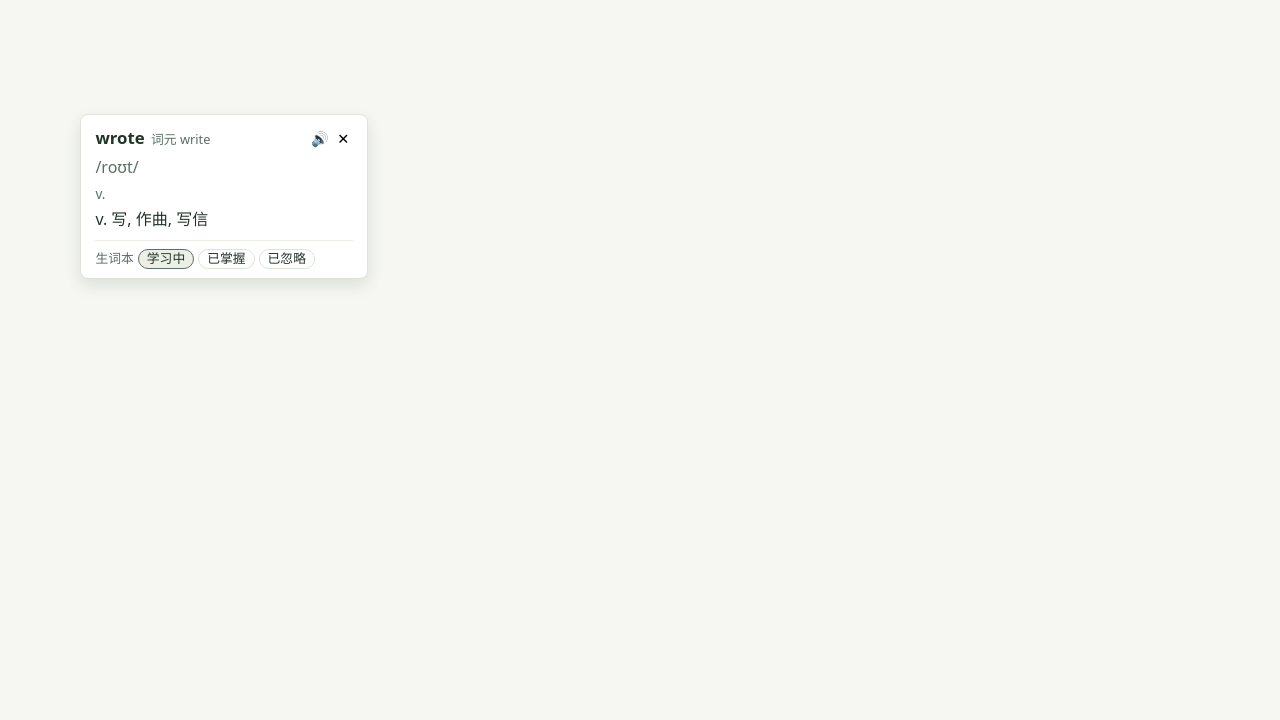
Test: shows a notice when the state save fails and clears it when a retry lands
Check: the text "/roʊt/" is shown, box [95,156,139,178]
Click the button "已掌握".
click(226, 259)  # box [198,249,255,269]
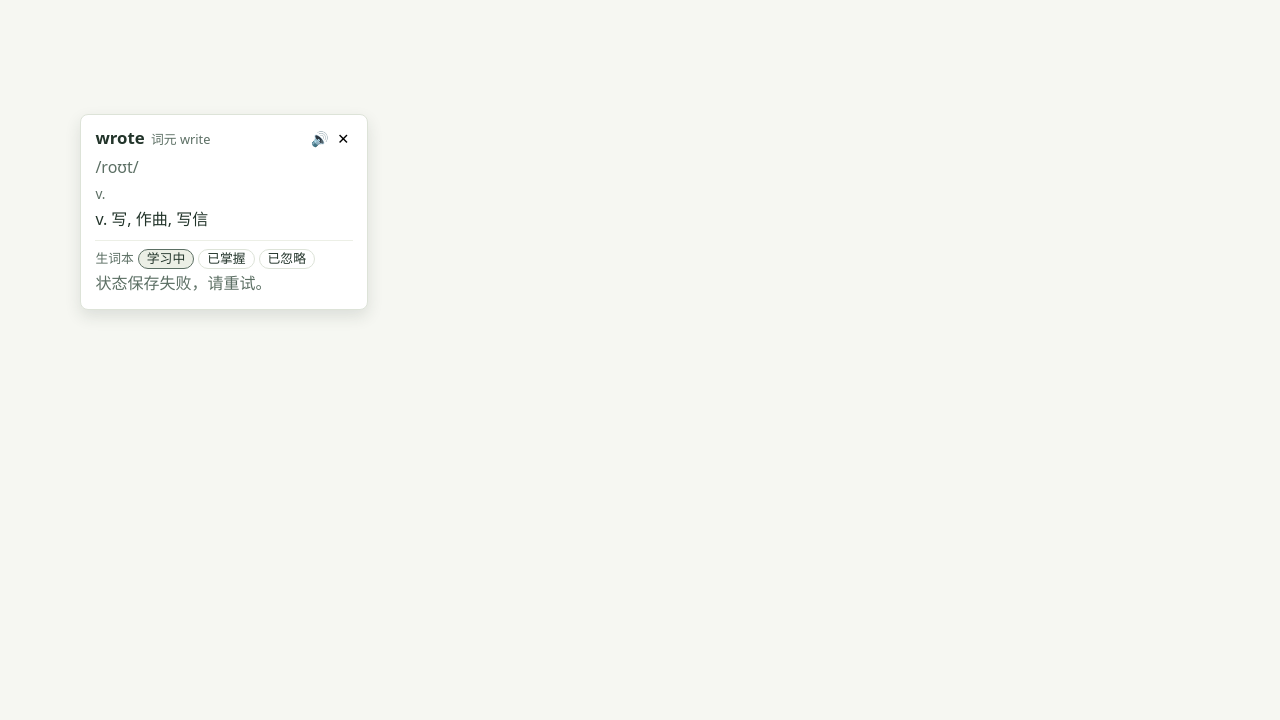
Check: the text "状态保存失败，请重试。" is shown, box [95,272,271,294]
Click the button "已掌握".
click(226, 259)  # box [198,249,255,269]
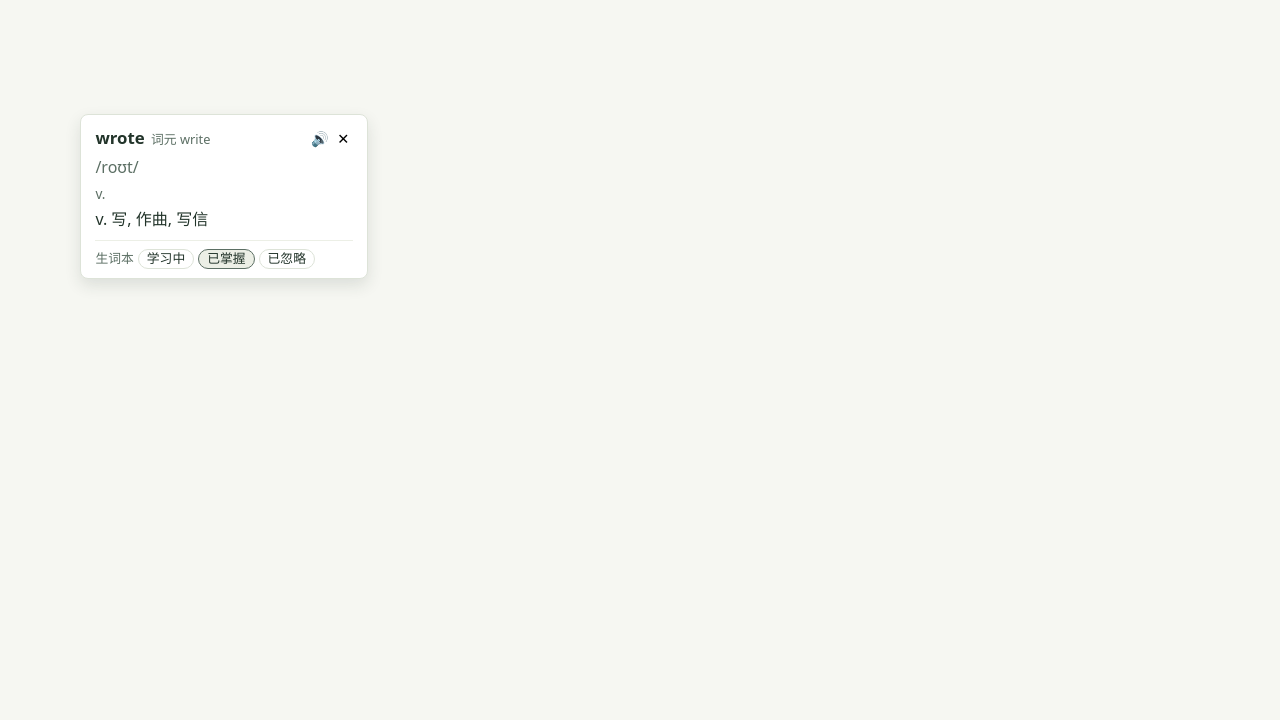
Check: the text "状态保存失败，请重试。" is gone
